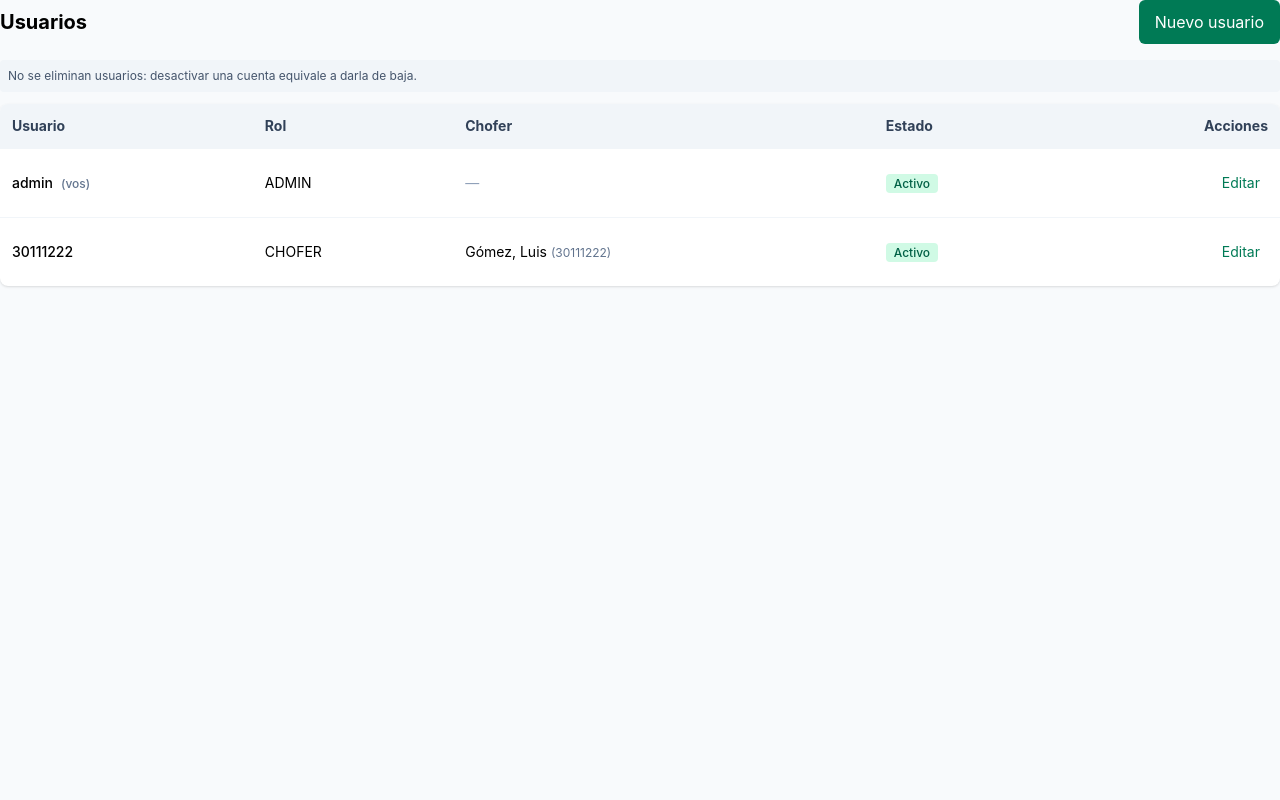
Scenario: UsuariosPage › permite desactivar la cuenta de otro usuario
Click the button "Editar" in the row of "Gómez, Luis".
click(1241, 252)  # box [1214,230,1268,274]
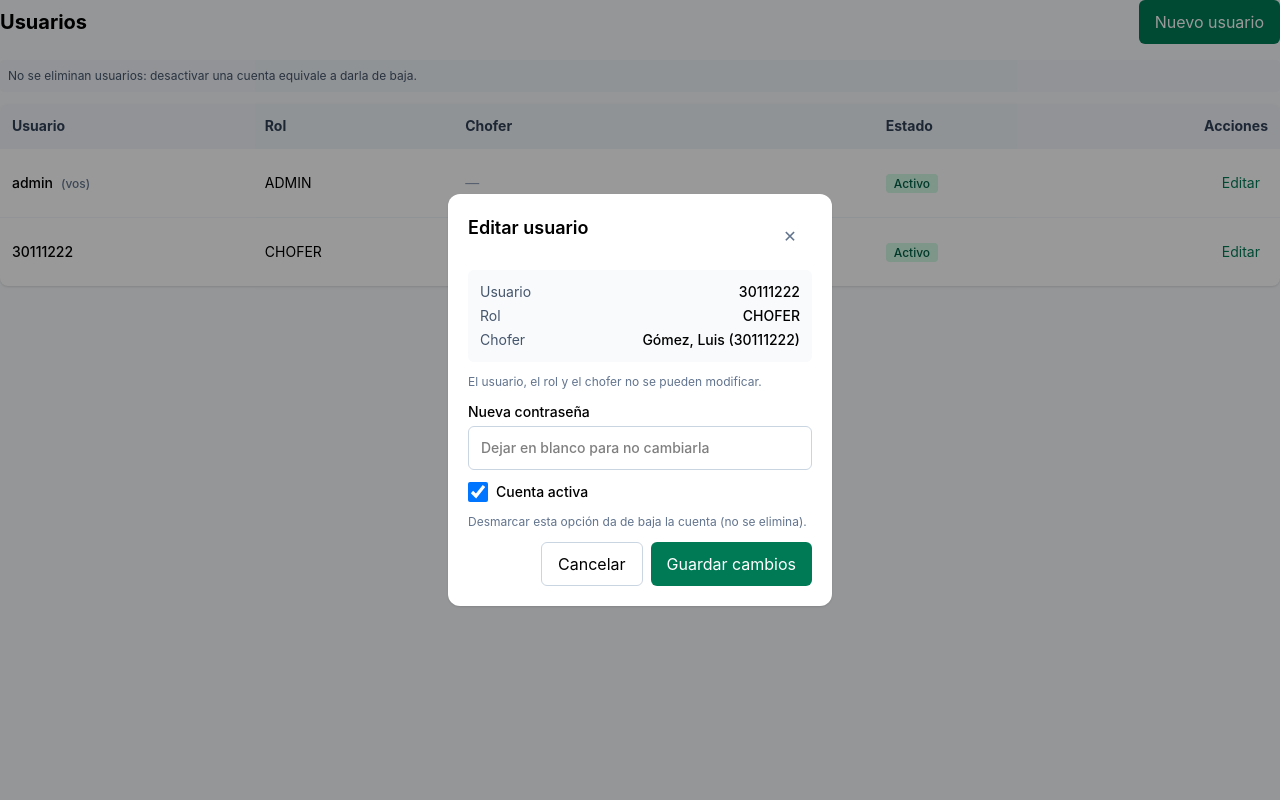
Result: the checkbox labelled "Cuenta activa" is enabled at [468,482,488,502]
Result: the text "Desmarcar esta opción da de baja la cuenta (no se elimina)." is shown at [468,514,812,530]
